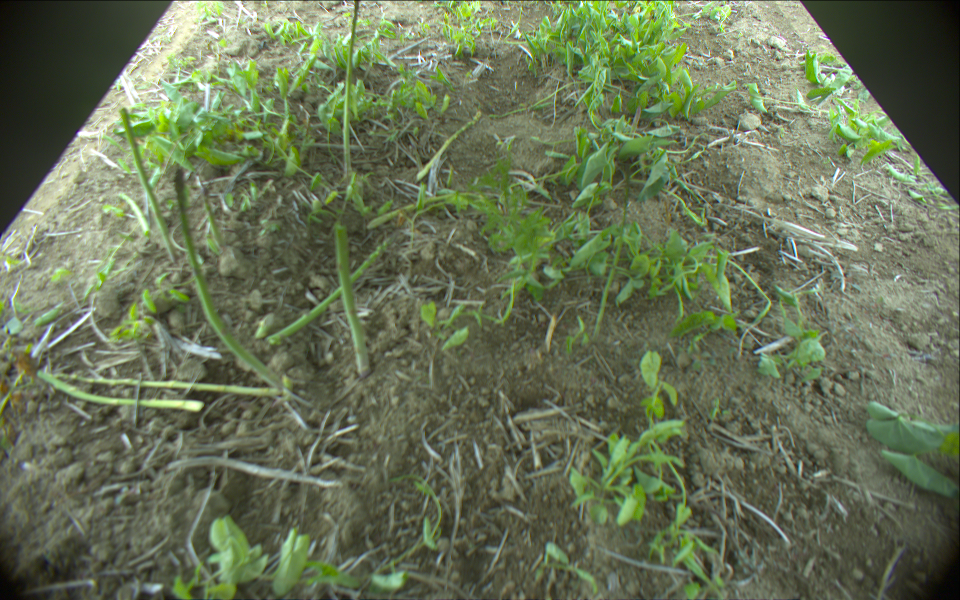aspa: (171, 169, 291, 395), (270, 246, 386, 342), (119, 106, 177, 261), (594, 171, 638, 340), (39, 369, 205, 411), (334, 222, 375, 384), (55, 371, 283, 397), (414, 108, 483, 179), (342, 1, 361, 176), (197, 175, 226, 251)
